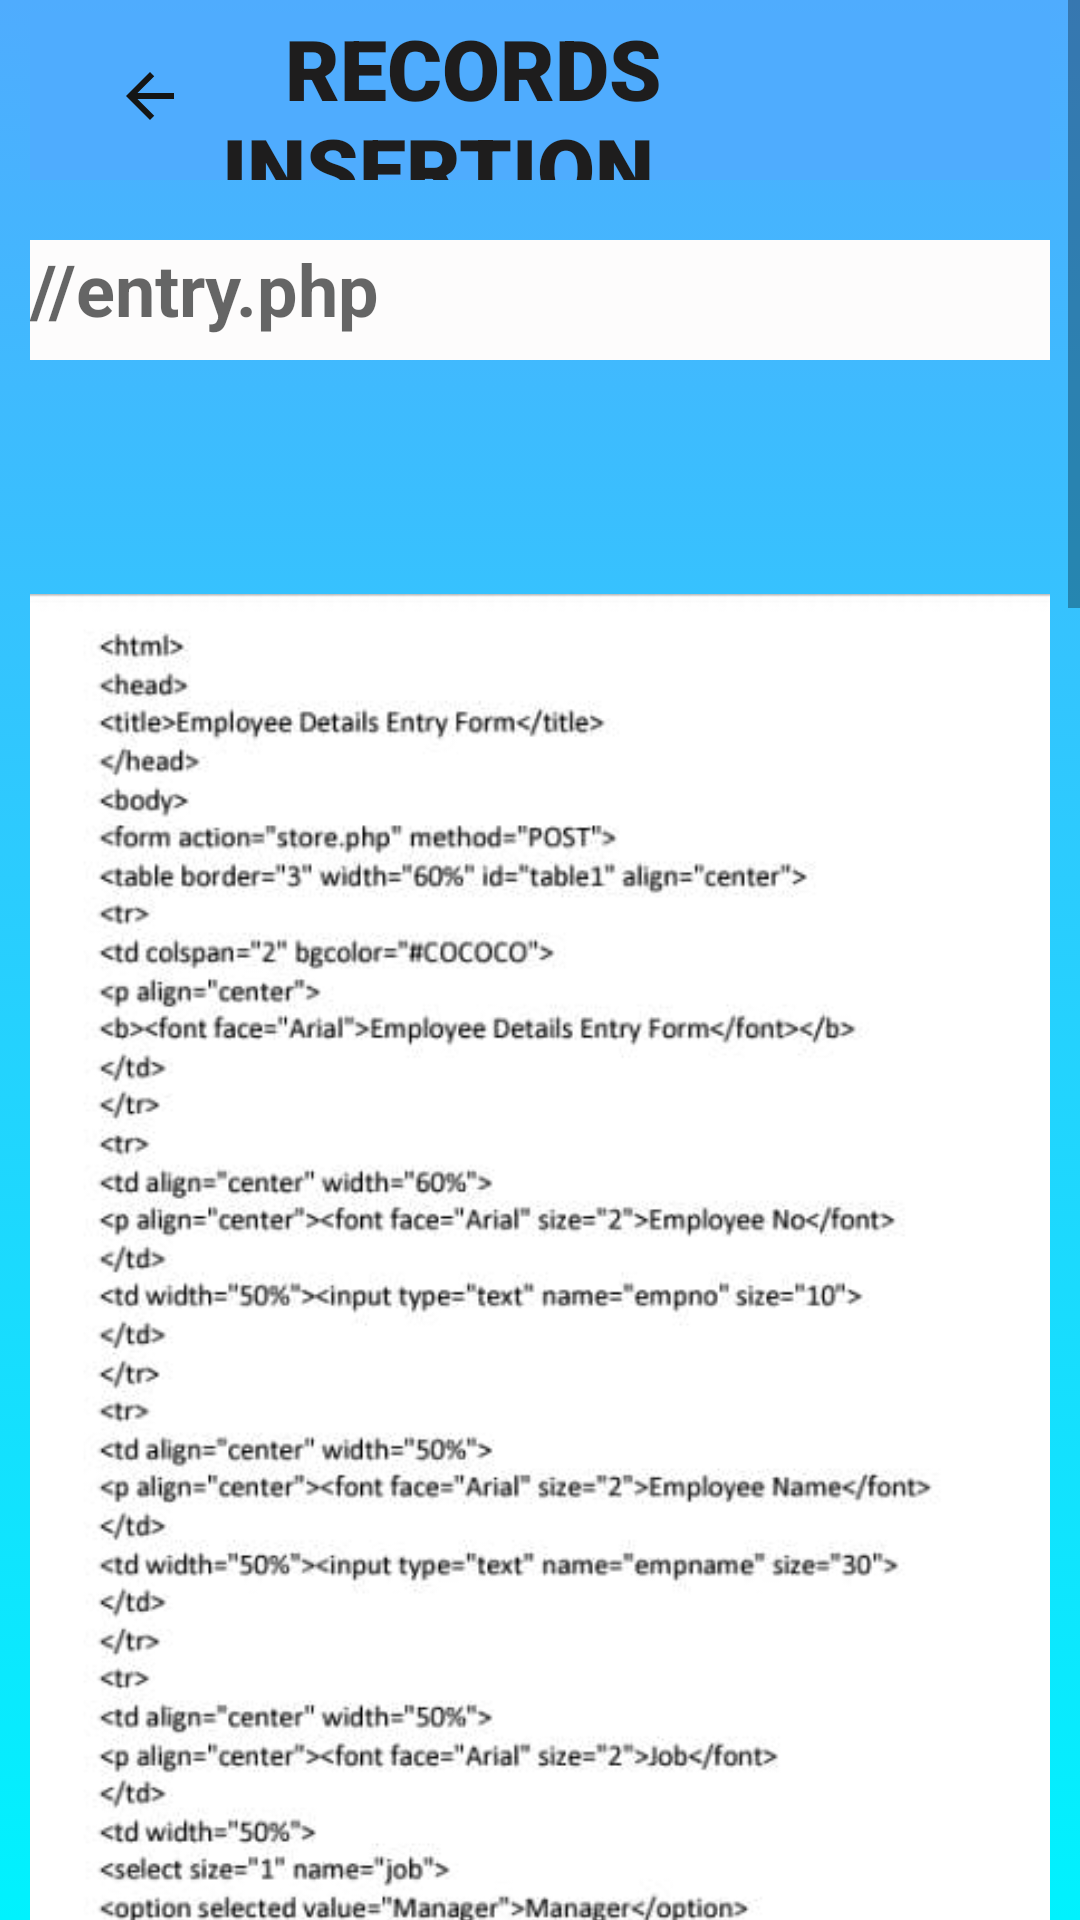

Icon click points for this 1080 x 1920 phone screenshot, format [x,y]:
back: [150,96]
